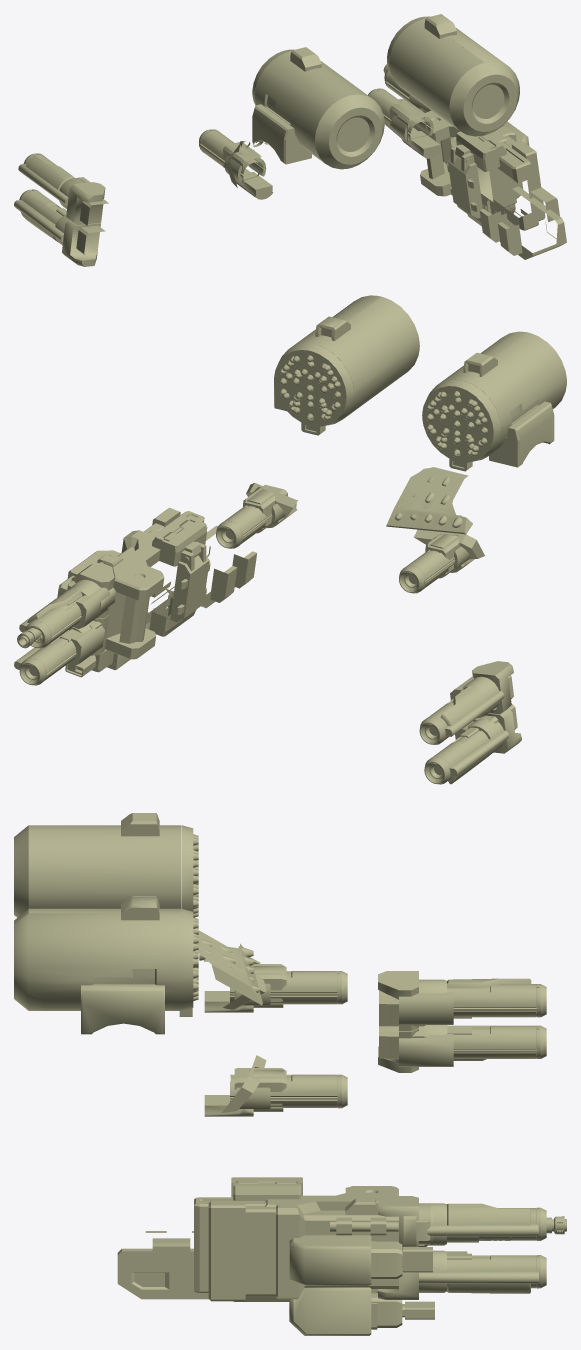
Rendered from GriffinWeapons.glb.
3 renders of one model, top to bottom at view 1: azimuth 30°, elevation 25°; view 2: azimuth 150°, elevation 25°; view 3: azimuth 270°, elevation 25°, orthographic. The views are drawn at different scales.
Visible parts, largest first — view 1: Forearm_Right_EH1_PPC, Torso_Left_MH1_Missile10, Torso_Right_MH1_Missile2, Torso_Left_MH1_Missile2, Forearm_Left_EH1_PPC, Forearm_Left_EH2_PPC, Torso_Right_MH1_Missile6, Torso_Left_EH1_PPC, Torso_Right_EH1_PPC, Torso_Left_MH1_Missile20, Torso_Right_MH1_Missile10, Torso_Left_MH1_Missile15 (+6 smaller); view 2: Forearm_Right_EH1_PPC, Torso_Right_MH1_Missile2, Torso_Left_MH1_Missile10, Torso_Left_MH1_Missile15, Forearm_Left_EH1_PPC, Forearm_Left_EH2_PPC, Torso_Left_MH1_Missile2, Forearm_Right_EH2_PPC, Torso_Left_MH1_Missile4, Torso_Left_EH1_PPC, Torso_Right_EH1_PPC, Torso_Left_MH1_Missile20 (+14 smaller); view 3: Forearm_Right_EH1_PPC, Torso_Right_MH1_Missile6, Torso_Left_MH1_Missile10, Forearm_Left_EH1_PPC, Torso_Left_MH1_Missile2, Forearm_Left_EH2_PPC, Forearm_Right_EH2_PPC, Forearm_Right_EH3_Laser, Forearm_Right_EH4_Laser, Torso_Right_EH1_PPC, Torso_Left_EH1_PPC, Torso_Left_MH1_Missile15 (+12 smaller).
Part boxes in pixels (box(x1,y1,x2,y2)): Forearm_Right_EH1_PPC: box(384, 69, 566, 259); Torso_Left_MH1_Missile10: box(252, 47, 384, 169); Torso_Right_MH1_Missile2: box(387, 17, 516, 136); Torso_Left_MH1_Missile2: box(252, 47, 384, 168); Forearm_Left_EH1_PPC: box(18, 153, 105, 225); Forearm_Left_EH2_PPC: box(14, 189, 100, 266); Torso_Right_MH1_Missile6: box(420, 14, 519, 135); Torso_Left_EH1_PPC: box(199, 129, 273, 199); Torso_Right_EH1_PPC: box(368, 88, 440, 158); Torso_Left_MH1_Missile20: box(253, 47, 383, 166); Torso_Right_MH1_Missile10: box(404, 17, 516, 131); Torso_Left_MH1_Missile15: box(253, 50, 383, 168); Forearm_Right_EH1_PPC: box(19, 508, 256, 659); Torso_Right_MH1_Missile2: box(275, 297, 419, 433); Torso_Left_MH1_Missile10: box(427, 332, 566, 470); Torso_Left_MH1_Missile15: box(422, 332, 566, 471); Forearm_Left_EH1_PPC: box(419, 661, 513, 744); Forearm_Left_EH2_PPC: box(424, 708, 521, 784); Torso_Left_MH1_Missile2: box(422, 332, 566, 469); Forearm_Right_EH2_PPC: box(14, 615, 109, 685); Torso_Left_MH1_Missile4: box(422, 333, 565, 458); Torso_Left_EH1_PPC: box(399, 529, 474, 593); Torso_Right_EH1_PPC: box(216, 483, 298, 548); Torso_Left_MH1_Missile20: box(424, 331, 566, 467); Forearm_Right_EH1_PPC: box(117, 1177, 546, 1301); Torso_Right_MH1_Missile6: box(14, 897, 198, 1034); Torso_Left_MH1_Missile10: box(14, 813, 198, 913); Forearm_Left_EH1_PPC: box(378, 971, 546, 1031); Torso_Left_MH1_Missile2: box(14, 813, 198, 916); Forearm_Left_EH2_PPC: box(378, 1025, 546, 1072); Forearm_Right_EH2_PPC: box(378, 1250, 546, 1299); Forearm_Right_EH3_Laser: box(289, 1235, 402, 1285); Forearm_Right_EH4_Laser: box(289, 1288, 402, 1335); Torso_Right_EH1_PPC: box(204, 1055, 347, 1116); Torso_Left_EH1_PPC: box(204, 957, 347, 1012); Torso_Left_MH1_Missile15: box(16, 824, 198, 917).
Bounding box in the file's own units: 1.67 × 1.05 × 1.48.
